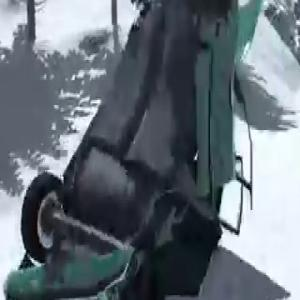serious: (0, 0, 267, 300)
